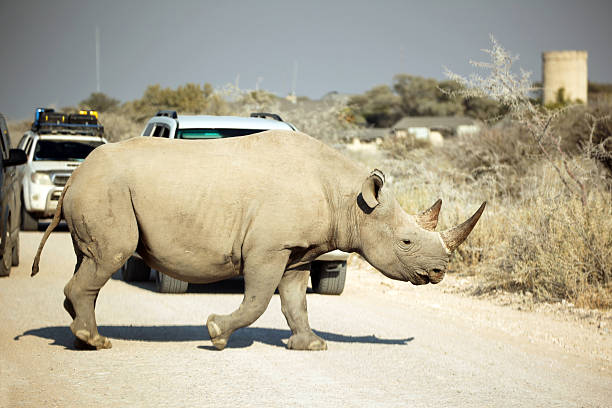rhino: (349, 150, 505, 318)
